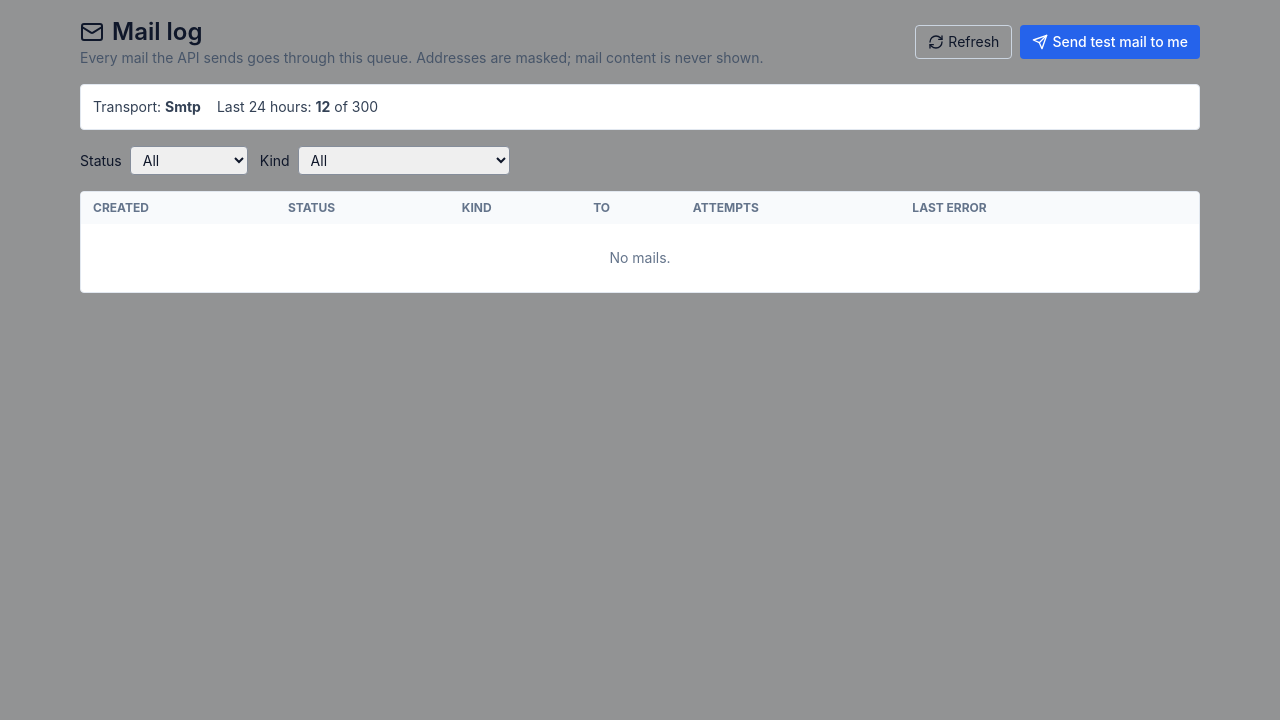
EmailLogPage › shows the API reason when the test mail is refused
Click the button "Send test mail to me".
click(1110, 42)  # box [1020,25,1200,59]
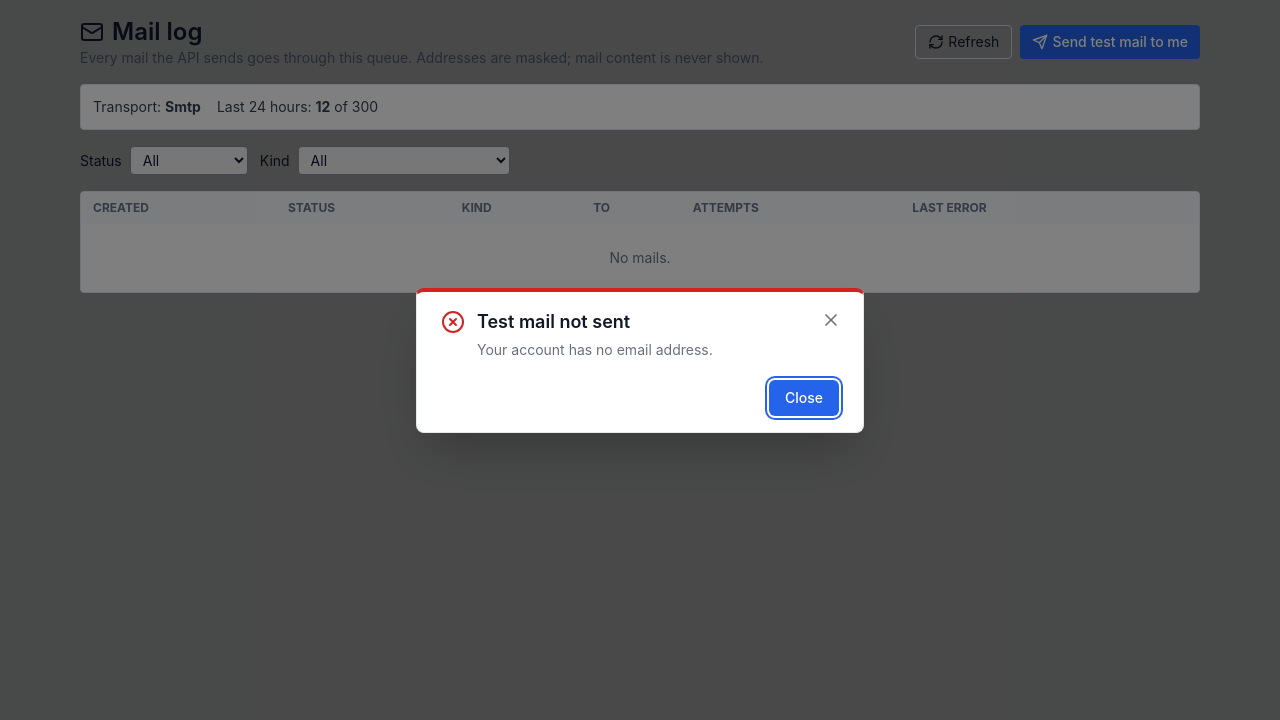
Result: the heading "Test mail not sent" is shown at [477,310,630,332]
Result: the text "Your account has no email address." is shown at [477,340,713,360]
